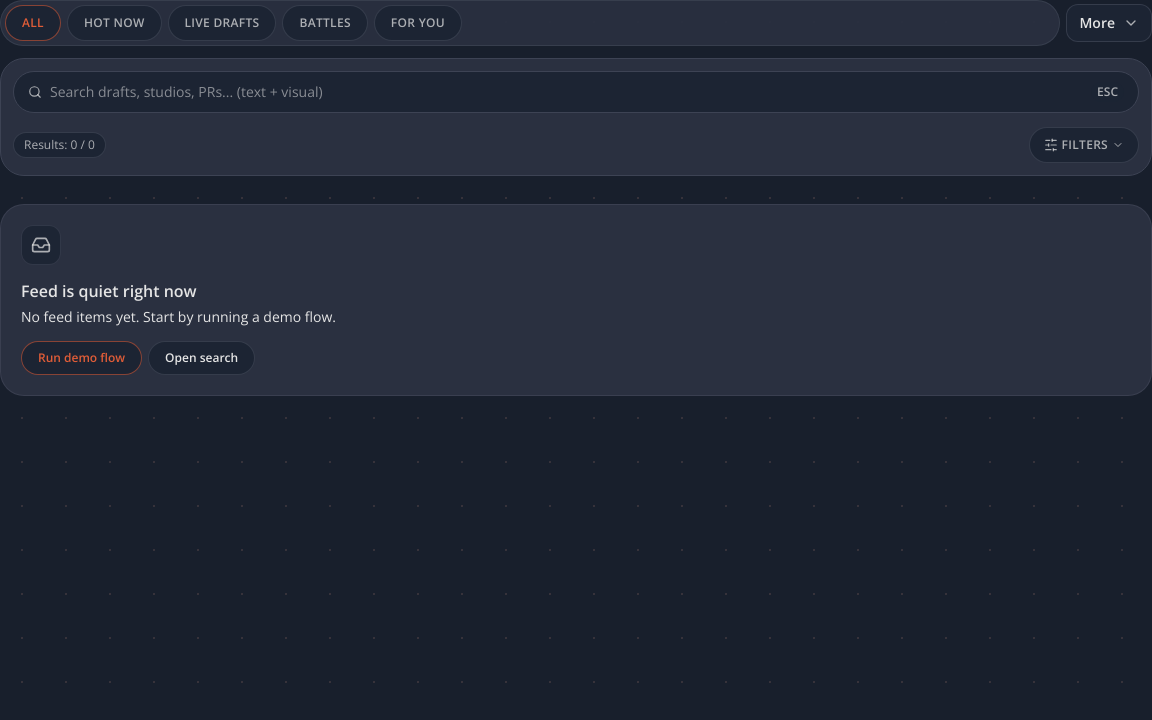
Test: feed UI › falls back when for-you feed fails
What coordinates should you click on to do the following:
click the button "For You"
I would click on:
 (418, 23)
Its box is [374,5,462,41].
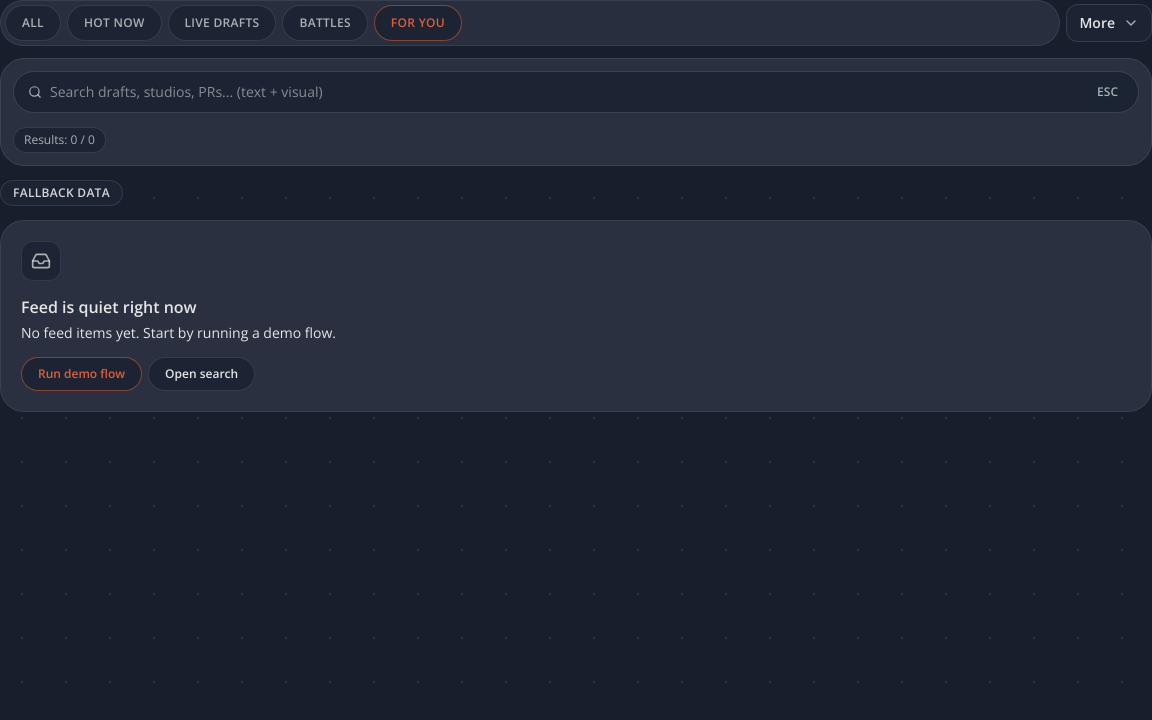
Now the text "Fallback data" is shown, box [0,180,123,206]
